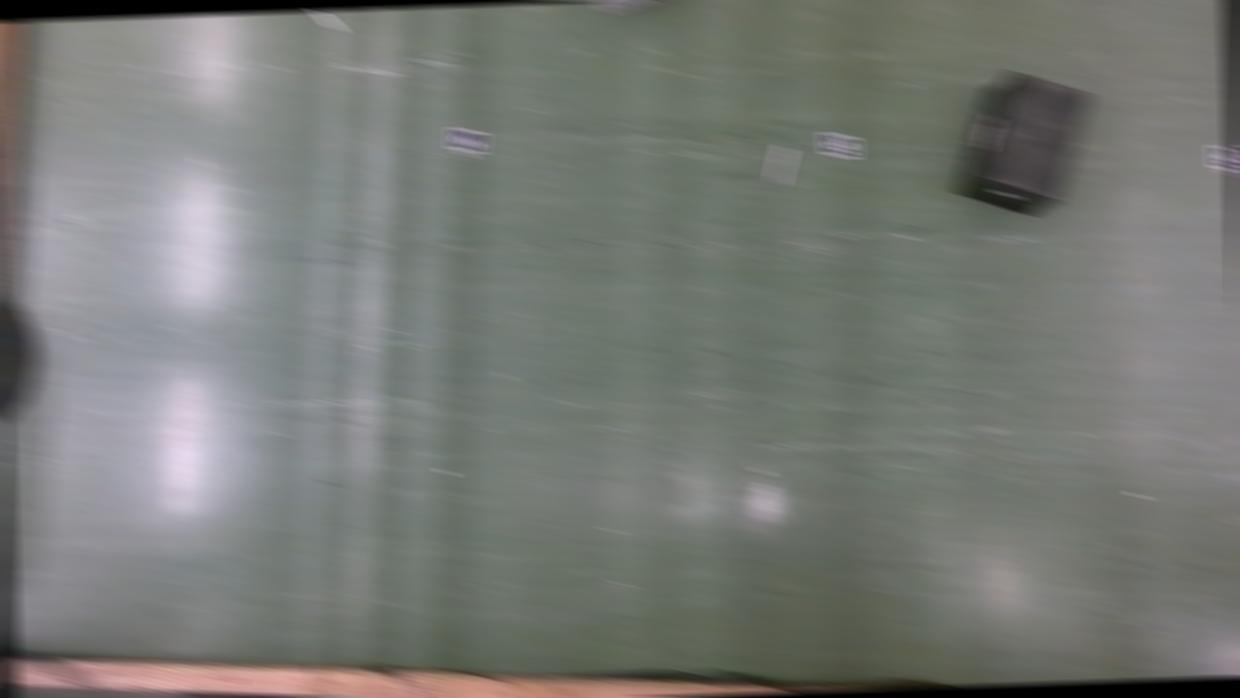probes: (771, 146, 792, 187), (311, 9, 341, 30)
rako: (952, 70, 1096, 220)
